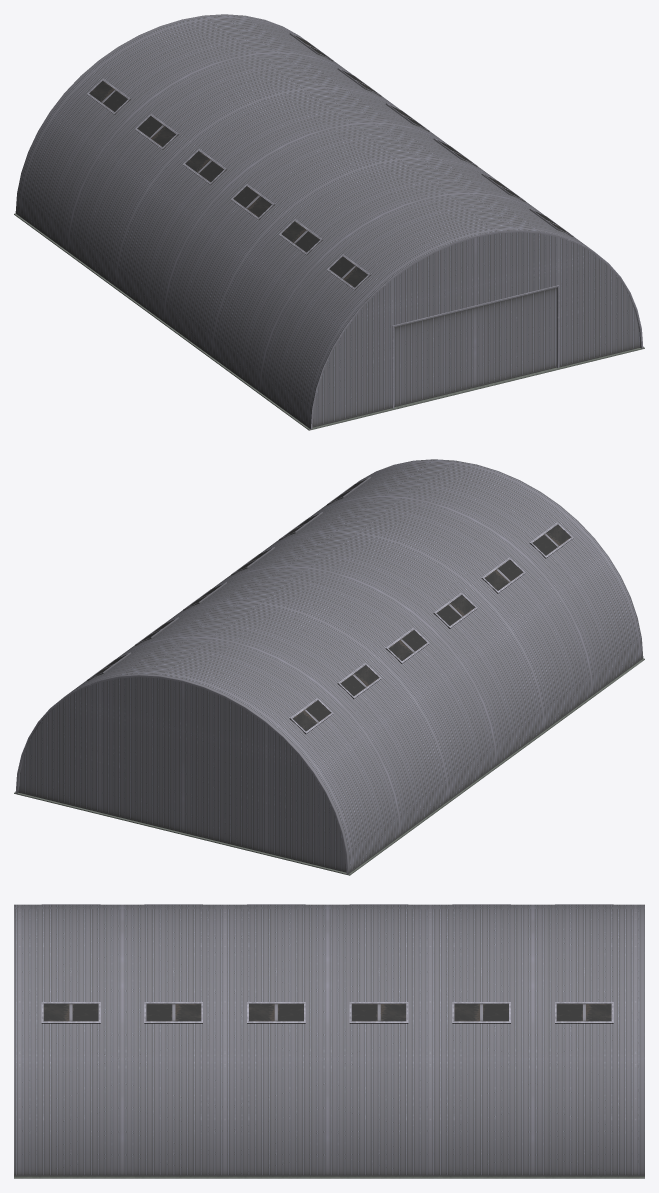
File: Warehouse02_6.FBX
The picture shows the model from 3 angles, top to bottom: view 1: azimuth 30°, elevation 25°; view 2: azimuth 150°, elevation 25°; view 3: azimuth 270°, elevation 25°; orthographic projection. The views are drawn at different scales.
Parts seen in each view (by area): view 1: Warehouse02_6; view 2: Warehouse02_6; view 3: Warehouse02_6.
Boxes of the visible parts, x1,y1,x2,y2 form: Warehouse02_6: [14, 14, 644, 430]; Warehouse02_6: [14, 459, 644, 875]; Warehouse02_6: [14, 904, 644, 1178].
Size of what is drawn, in the model's own units: 20.2 by 8.86 by 30.74.
